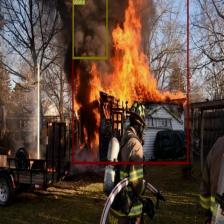fire: (72, 0, 188, 163)
smoke: (72, 0, 106, 58)
